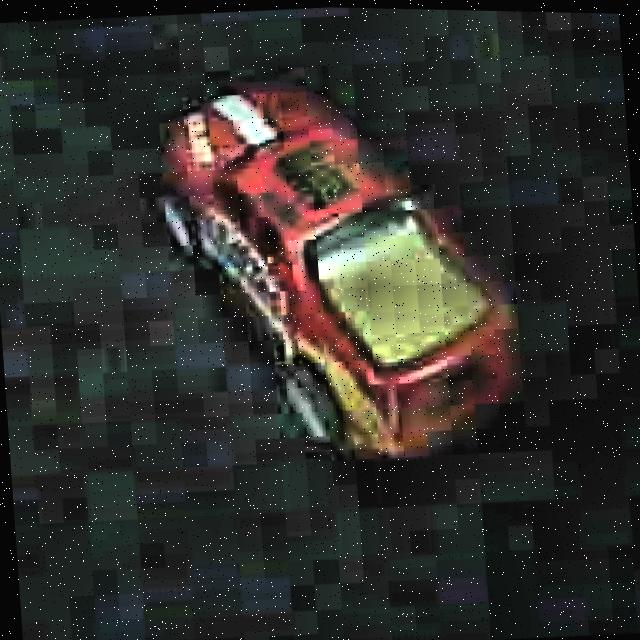car: (139, 45, 542, 490)
